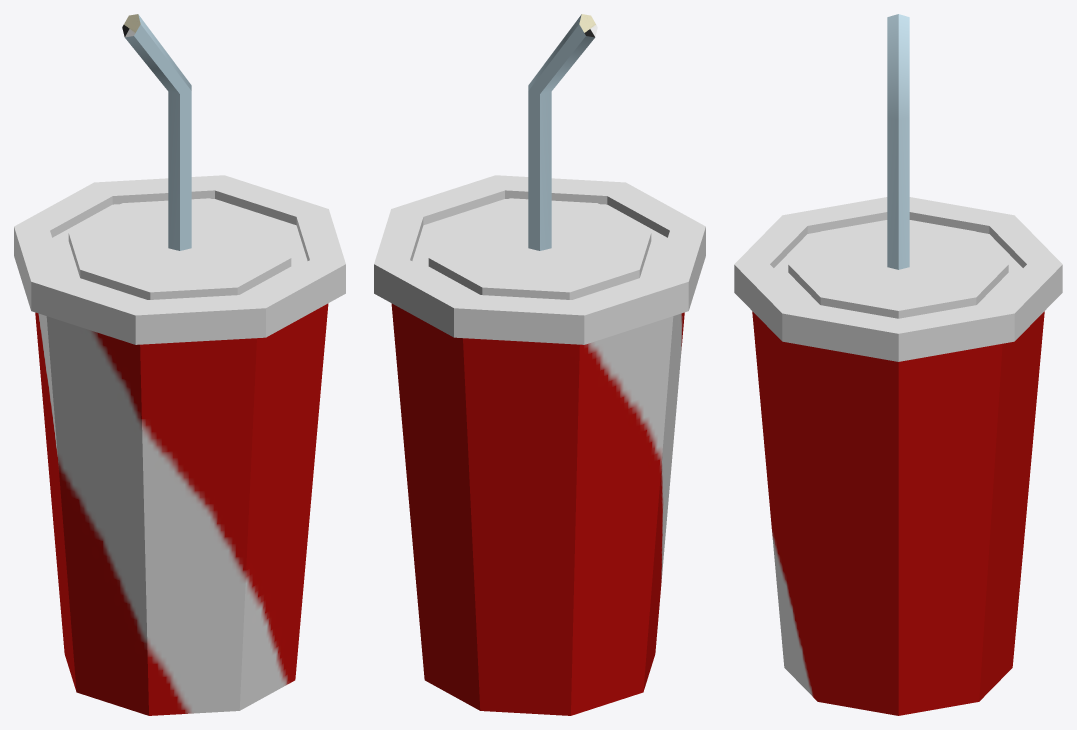
Rendered from fbx_hamburger_coke.fbx.
3 renders of one model, left to right at view 1: azimuth 30°, elevation 25°; view 2: azimuth 150°, elevation 25°; view 3: azimuth 270°, elevation 25°, orthographic. The views are drawn at different scales.
Visible parts, largest first — view 1: asset:fbx_hamburger_coke; view 2: asset:fbx_hamburger_coke; view 3: asset:fbx_hamburger_coke.
Part boxes in pixels (box(x1,y1,x2,y2)): asset:fbx_hamburger_coke: box(14, 14, 345, 715); asset:fbx_hamburger_coke: box(374, 14, 705, 715); asset:fbx_hamburger_coke: box(734, 14, 1062, 715).
Size of the model in its own units: 0.582 by 1.24 by 0.582.
Materials: 1 (1 with a texture image).
